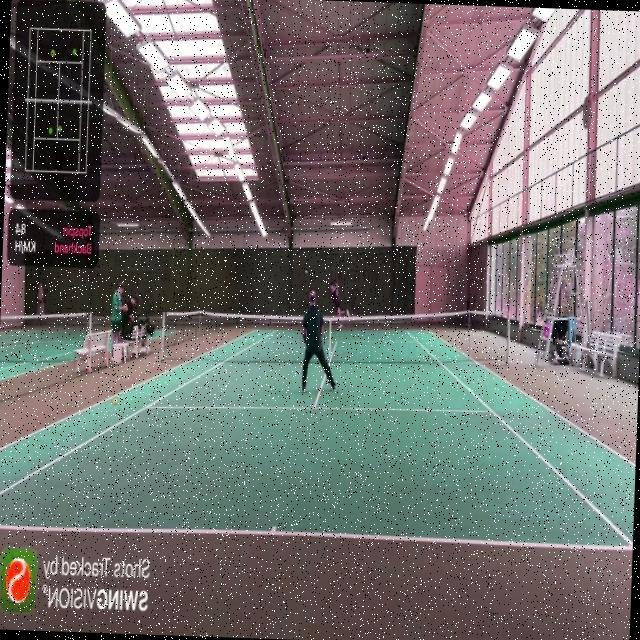court: (0, 314, 639, 552)
net: (158, 297, 512, 371)
player: (298, 290, 340, 394)
